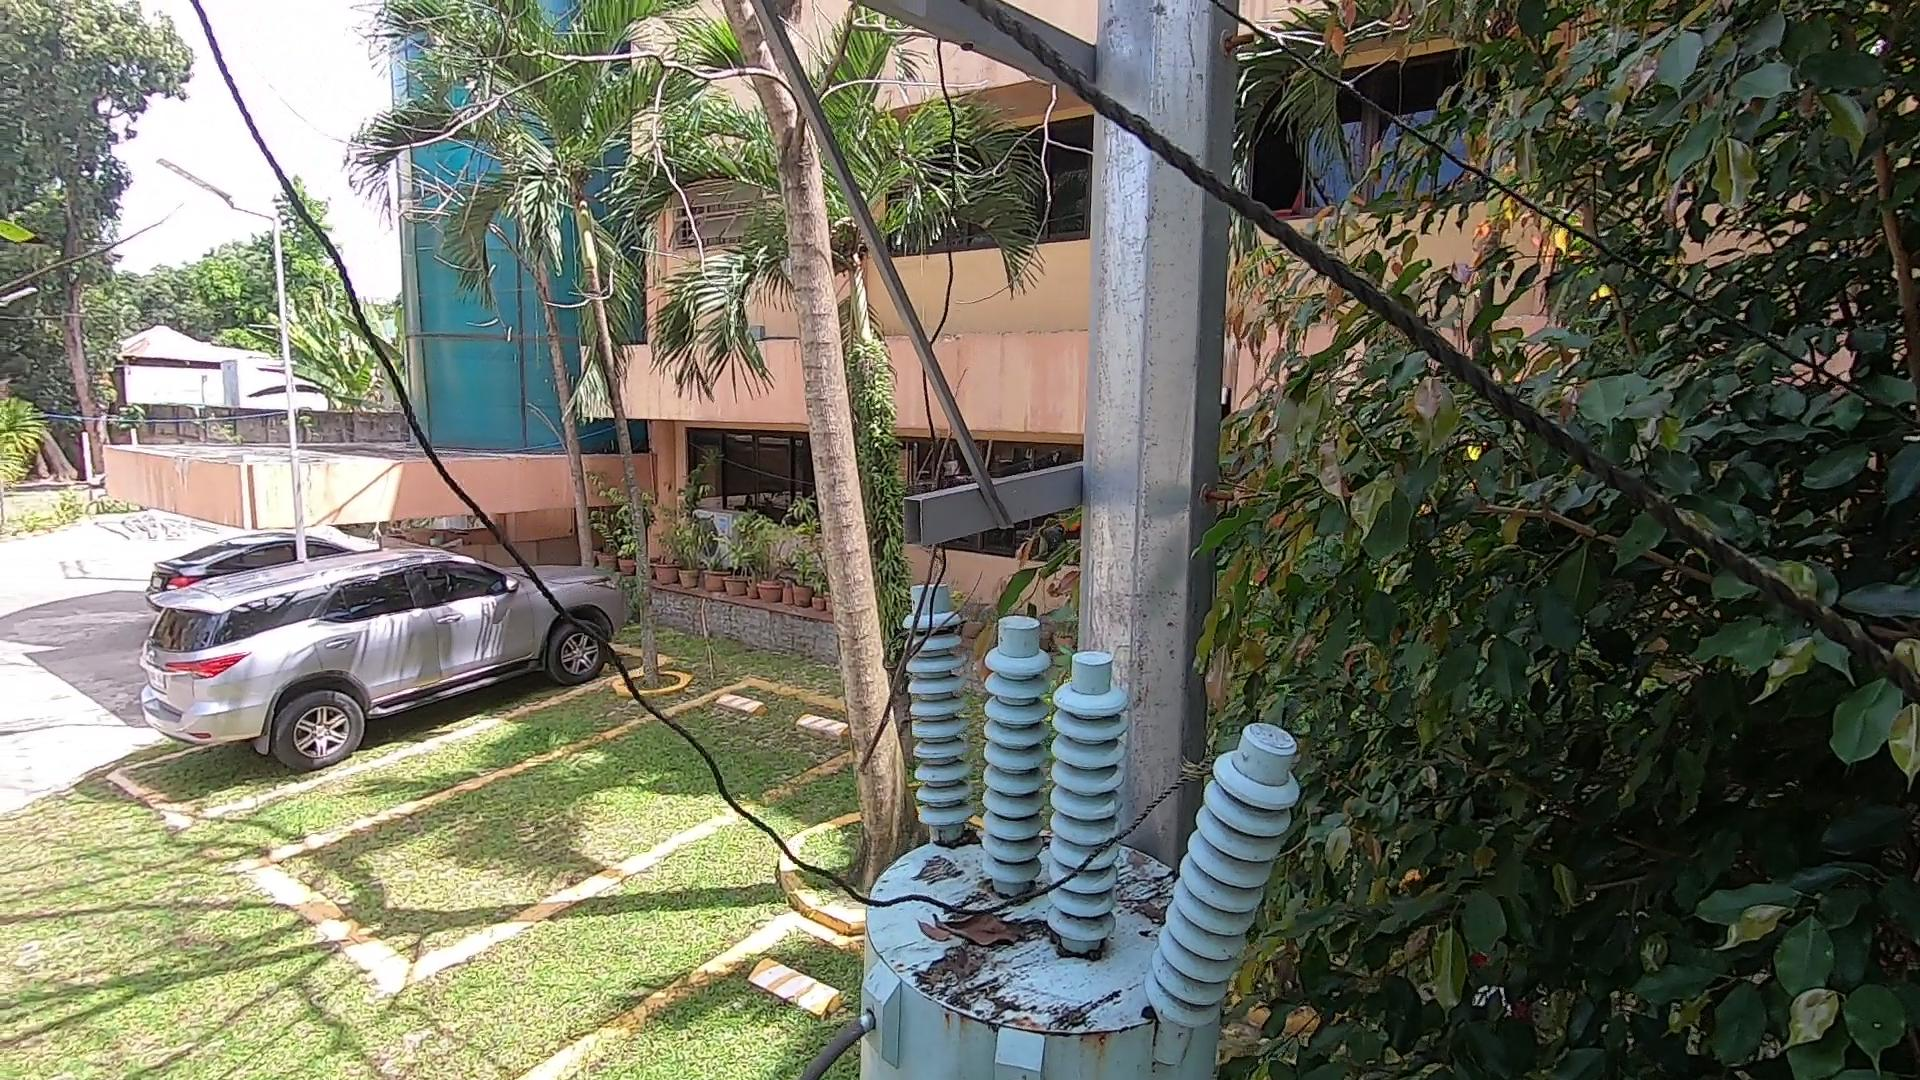leaf: (909, 894, 1038, 963), (936, 808, 997, 860), (1122, 876, 1182, 924)
tree branch: (840, 386, 990, 789)
